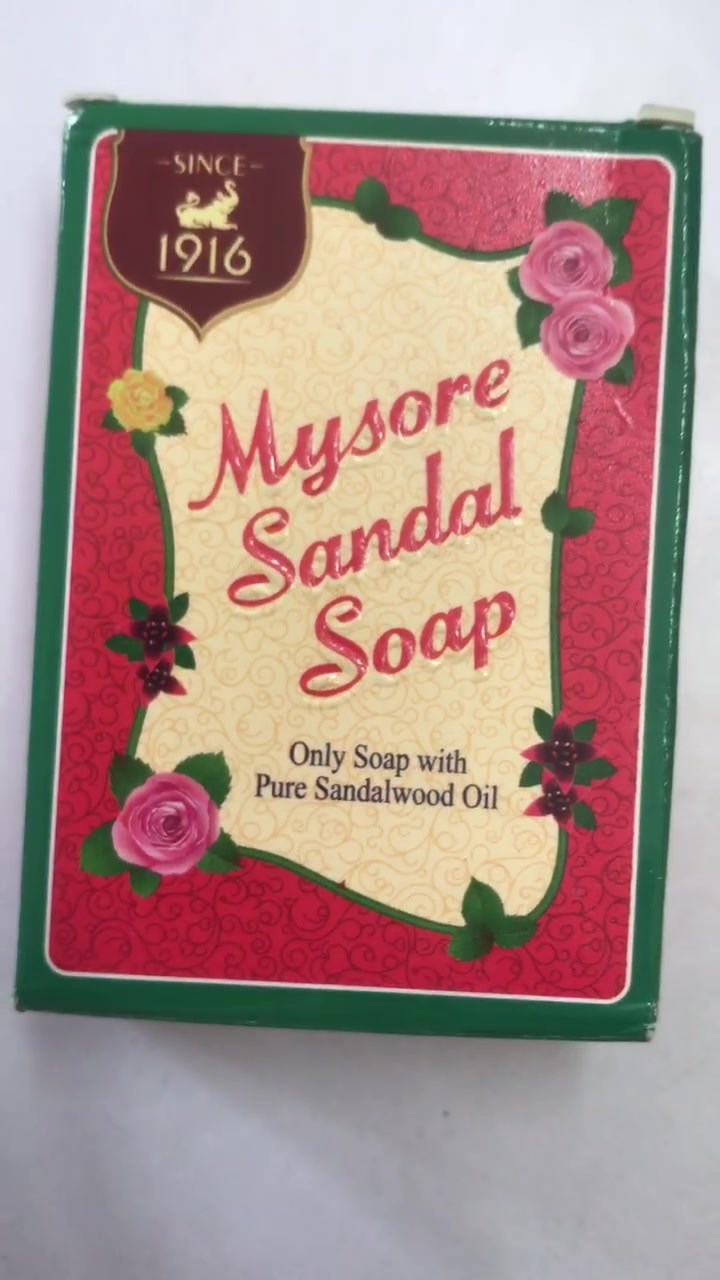mysore sandal soap: (13, 105, 694, 1043)
